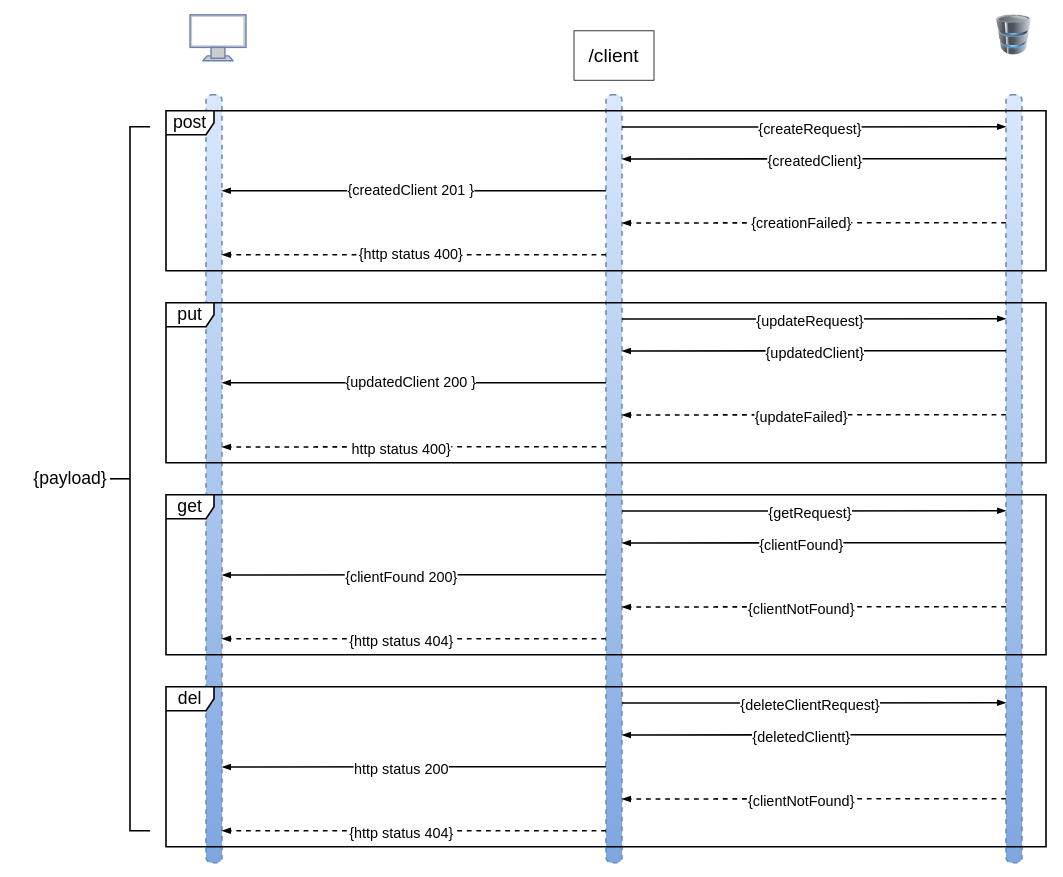
This 1063x877 diagram has some shape labels left out. The box of each missing label's shape, as (x1, y1, x2, y2) in pixels:
clientDB: (986, 14, 1042, 54)
iShop: (189, 14, 246, 61)
